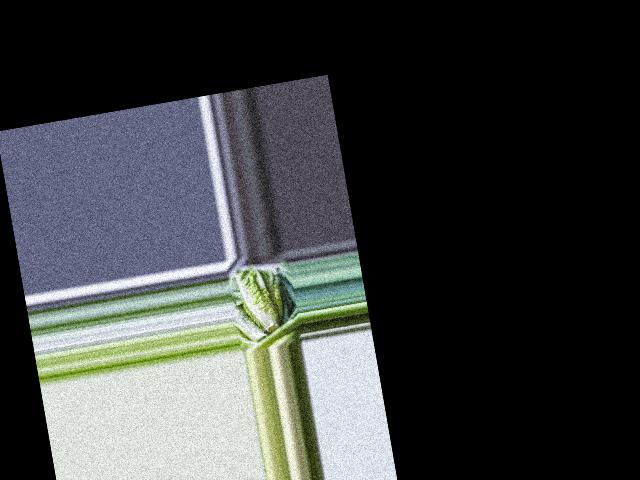lettuce: (233, 262, 287, 337)
